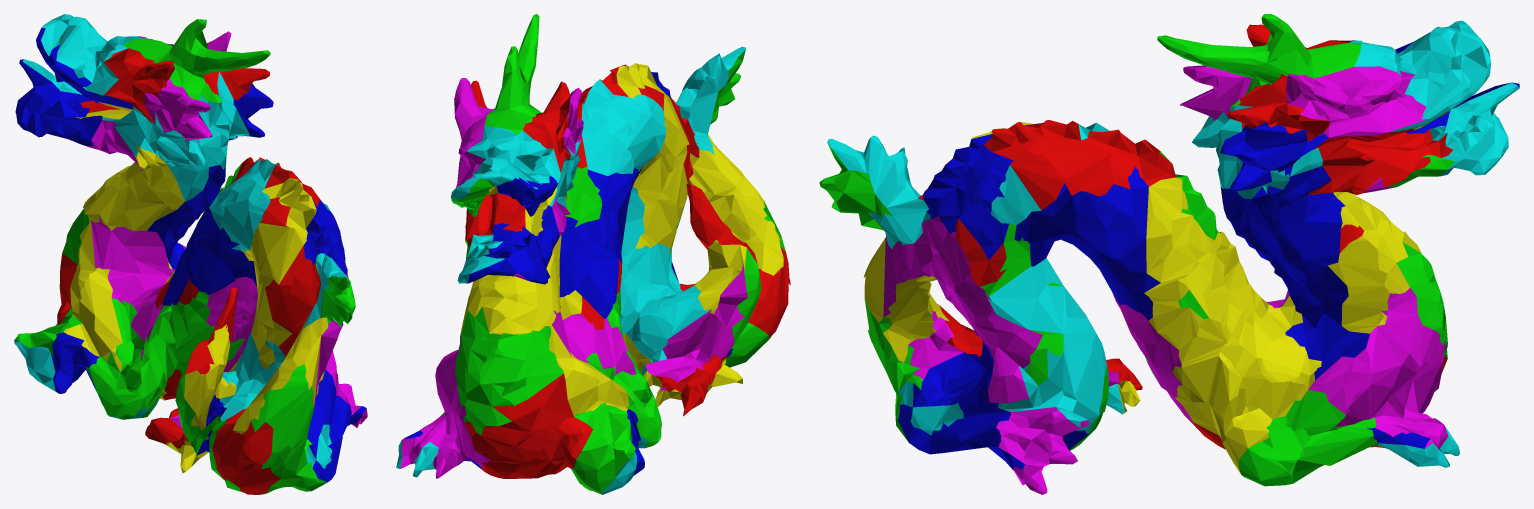
File: Dragon_80K_L3.fbx
3 renders of one model, left to right at view 1: azimuth 30°, elevation 25°; view 2: azimuth 150°, elevation 25°; view 3: azimuth 270°, elevation 25°, orthographic. The views are drawn at different scales.
Bounding box in the file's own units: 0.4472 × 0.7047 × 0.9991.
